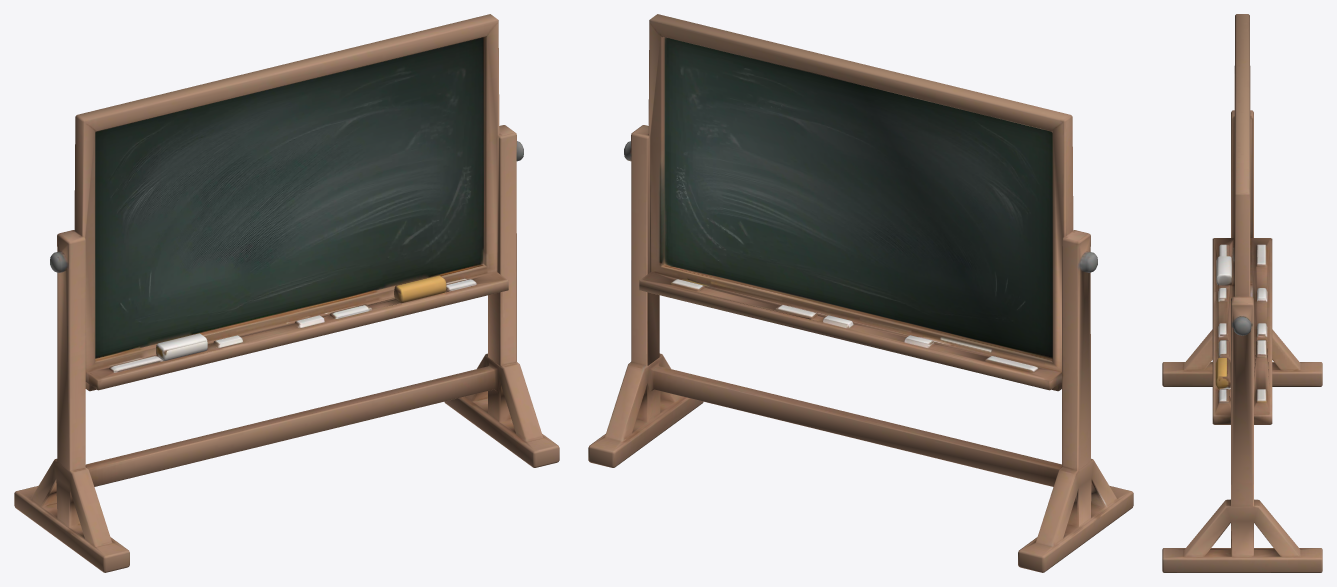
File: blackboard_realistic_style_5cec1287_v3.glb
3 views of the same model, side by side, from view 1: azimuth 30°, elevation 25°; view 2: azimuth 150°, elevation 25°; view 3: azimuth 270°, elevation 25° (orthographic). The views are drawn at different scales.
Parts seen in each view (by area): view 1: texture_pbr_20250901; view 2: texture_pbr_20250901; view 3: texture_pbr_20250901.
Part boxes in pixels (left/top/right/bottom): texture_pbr_20250901: left=14, top=14, right=559, bottom=572; texture_pbr_20250901: left=588, top=14, right=1133, bottom=572; texture_pbr_20250901: left=1162, top=14, right=1322, bottom=572.
Bounding box in the file's own units: 1.9 × 1.62 × 0.6328.
1 material, 1 textured.
